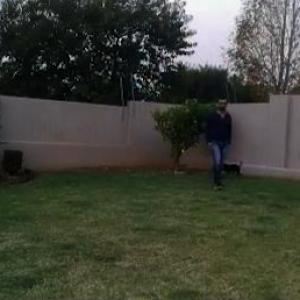follow: (204, 92, 232, 189)
